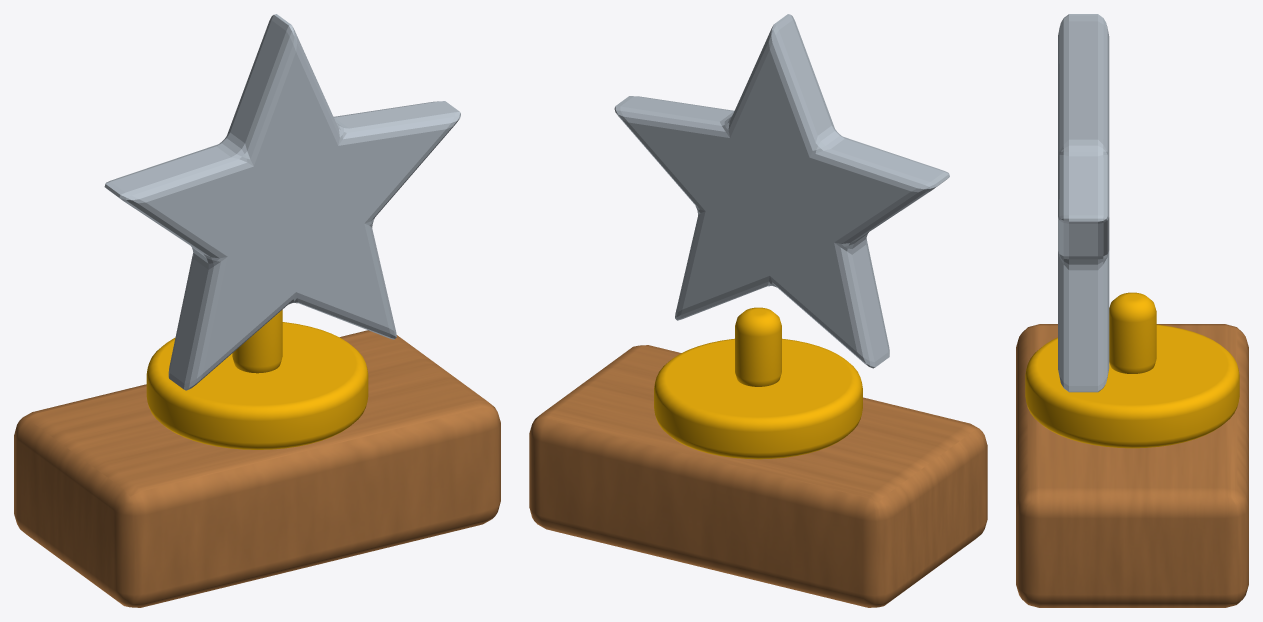
File: display-silver.glb
The picture shows the model from 3 angles, left to right: view 1: azimuth 30°, elevation 25°; view 2: azimuth 150°, elevation 25°; view 3: azimuth 270°, elevation 25°; orthographic projection. The views are drawn at different scales.
Visible parts, largest first — view 1: Wooden award plinth.005, Star.002, Star foot.002, Star support.002; view 2: Wooden award plinth.005, Star.002, Star foot.002, Star support.002; view 3: Wooden award plinth.005, Star.002, Star foot.002, Star support.002.
Part boxes in pixels (x1,y1,x2,y2): Wooden award plinth.005: (14,330,500,607); Star.002: (104,14,460,390); Star foot.002: (146,322,368,449); Star support.002: (232,310,282,373); Wooden award plinth.005: (529,345,987,607); Star.002: (614,14,949,368); Star foot.002: (654,338,862,459); Star support.002: (735,307,781,386); Wooden award plinth.005: (1016,324,1248,607); Star.002: (1058,14,1109,392); Star foot.002: (1025,324,1239,448); Star support.002: (1109,292,1156,373).
Bounding box in the file's own units: 0.46 × 0.6046 × 0.25.
Materials: 3 (1 with a texture image).
